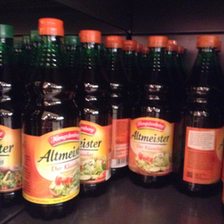vinegar: (22, 17, 82, 218), (181, 37, 224, 197), (130, 36, 174, 186), (75, 30, 114, 196)
